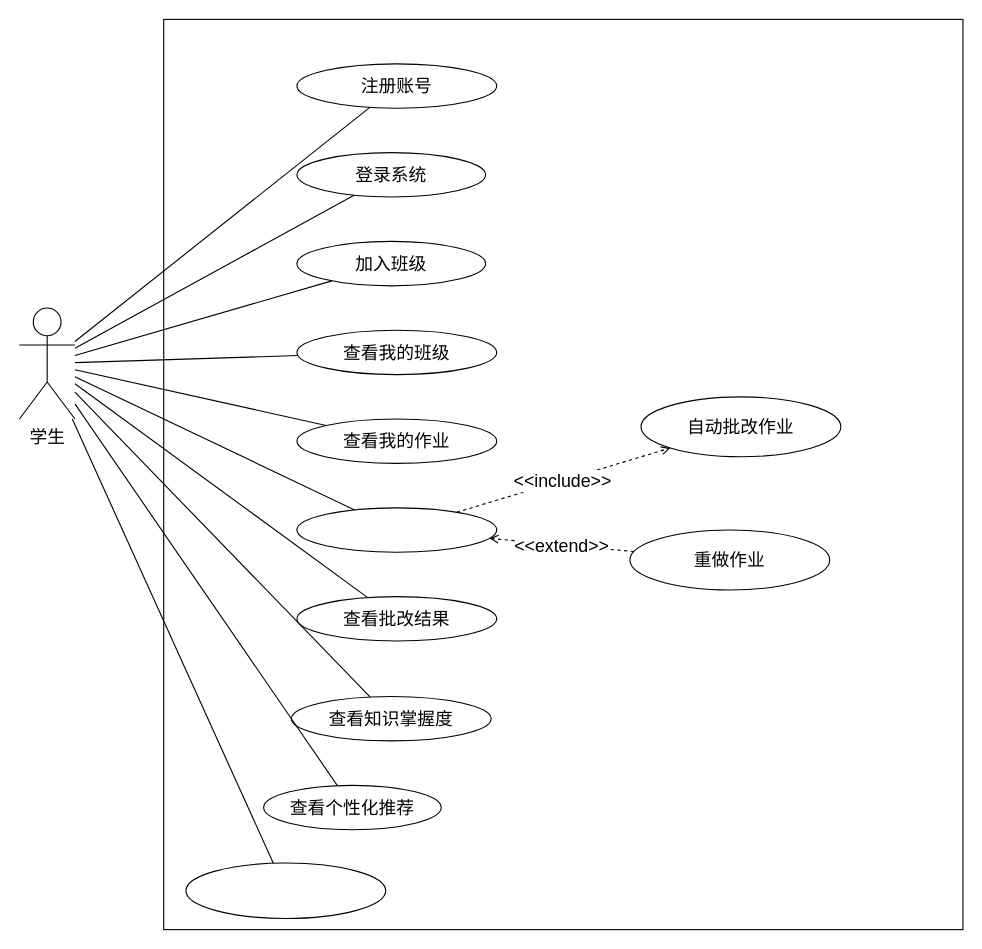
Image size: 982x949. Some labels were removed from this diagram. Each missing label, with the centre of its shape:
"提交作业" belongs at pixel 396 529.
"查看学生总览" belongs at pixel 285 890.
